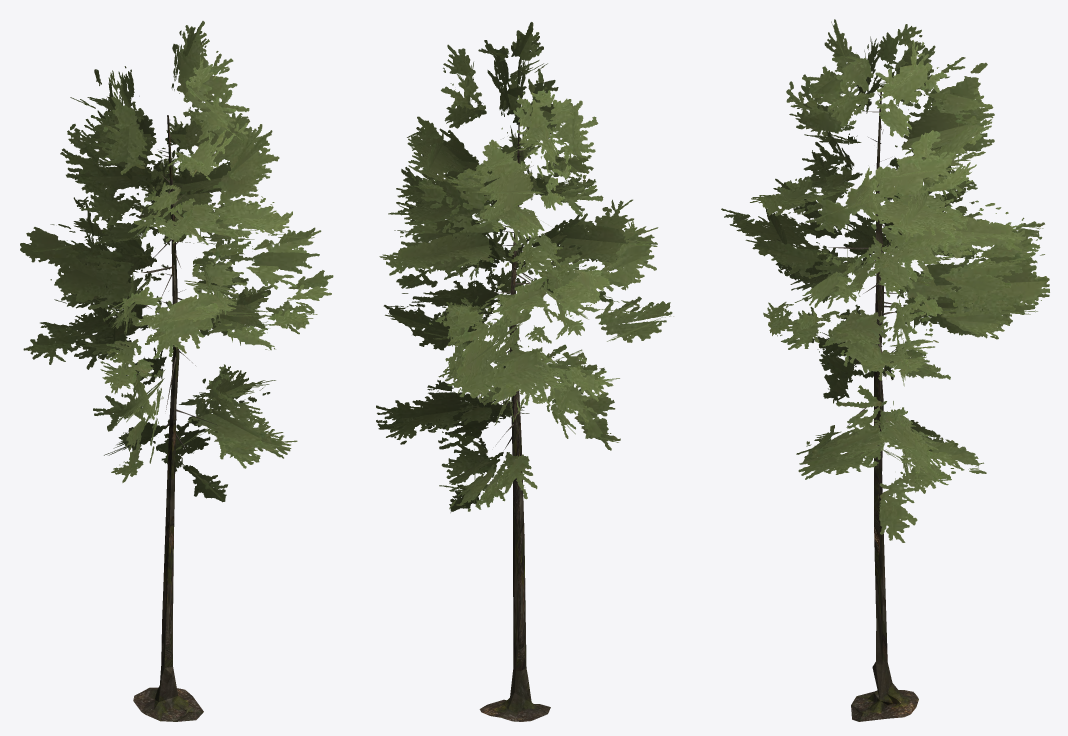
Rendered from fir_b_lod1.glb.
The picture shows the model from 3 angles, left to right: view 1: azimuth 30°, elevation 25°; view 2: azimuth 150°, elevation 25°; view 3: azimuth 270°, elevation 25°; orthographic projection. The views are drawn at different scales.
Visible parts, largest first — view 1: fir_b_lod1_needles, fir_b_lod1_trunk_fir_tree_01_trunk_b, fir_b_lod1_branches_fir_tree_01_bark; view 2: fir_b_lod1_needles, fir_b_lod1_trunk_fir_tree_01_trunk_b; view 3: fir_b_lod1_needles, fir_b_lod1_trunk_fir_tree_01_trunk_b.
Part boxes in pixels (x1,y1,x2,y2): fir_b_lod1_needles: (20, 21, 333, 502); fir_b_lod1_trunk_fir_tree_01_trunk_b: (133, 115, 203, 721); fir_b_lod1_branches_fir_tree_01_bark: (141, 121, 217, 451); fir_b_lod1_needles: (376, 22, 673, 512); fir_b_lod1_trunk_fir_tree_01_trunk_b: (479, 117, 550, 721); fir_b_lod1_needles: (721, 19, 1049, 542); fir_b_lod1_trunk_fir_tree_01_trunk_b: (851, 92, 918, 721).
Bounding box in the file's own units: 5.95 × 14.13 × 6.21.
3 materials, 3 textured.
